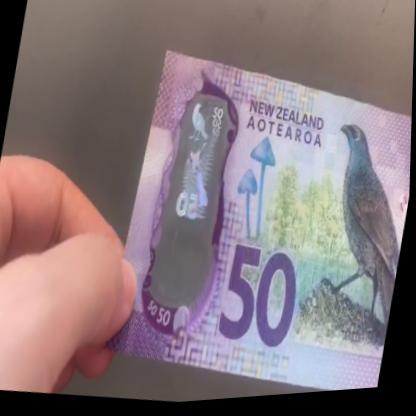50B: (159, 95, 233, 308)
